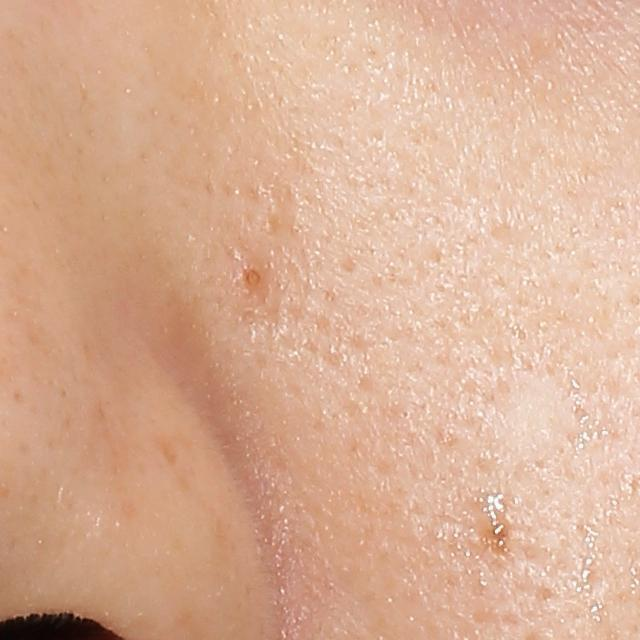comedo: (237, 264, 265, 298)
nevus: (480, 494, 518, 560)
